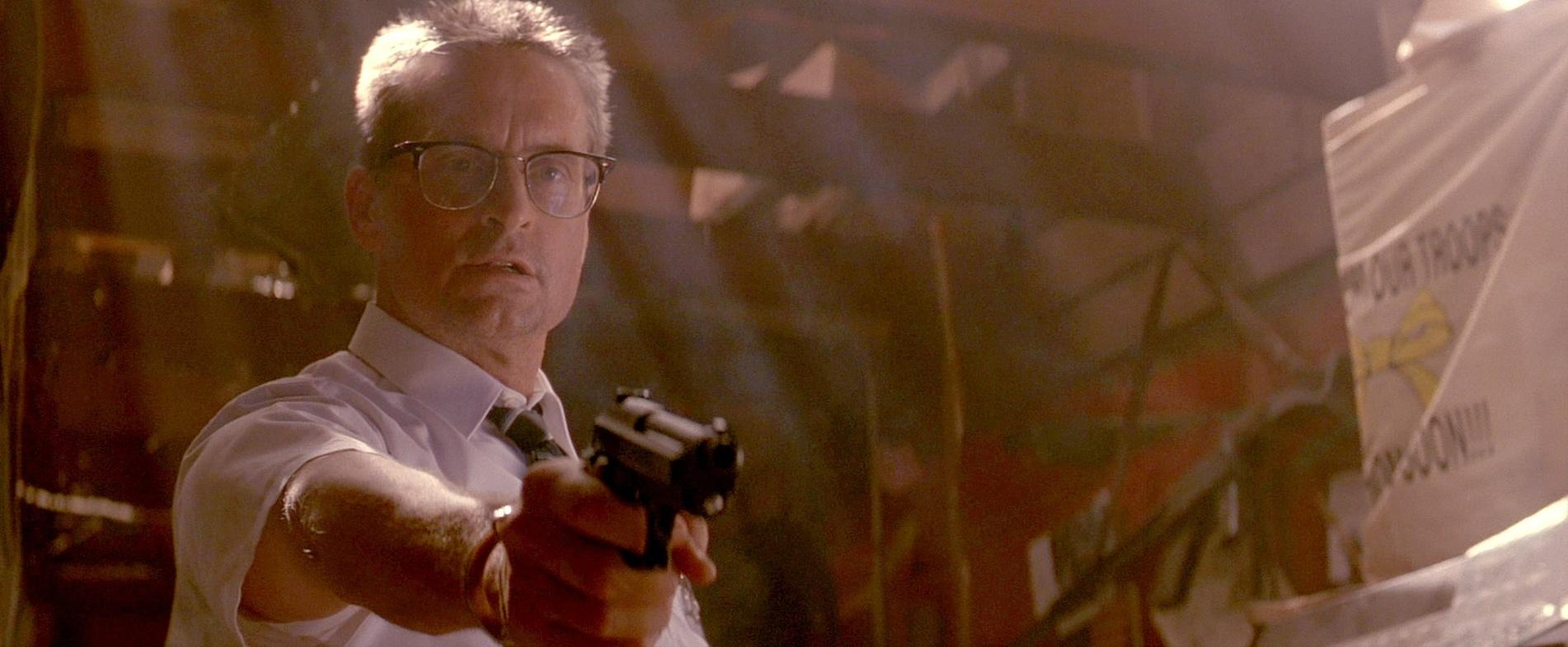gun: (544, 339, 750, 585)
